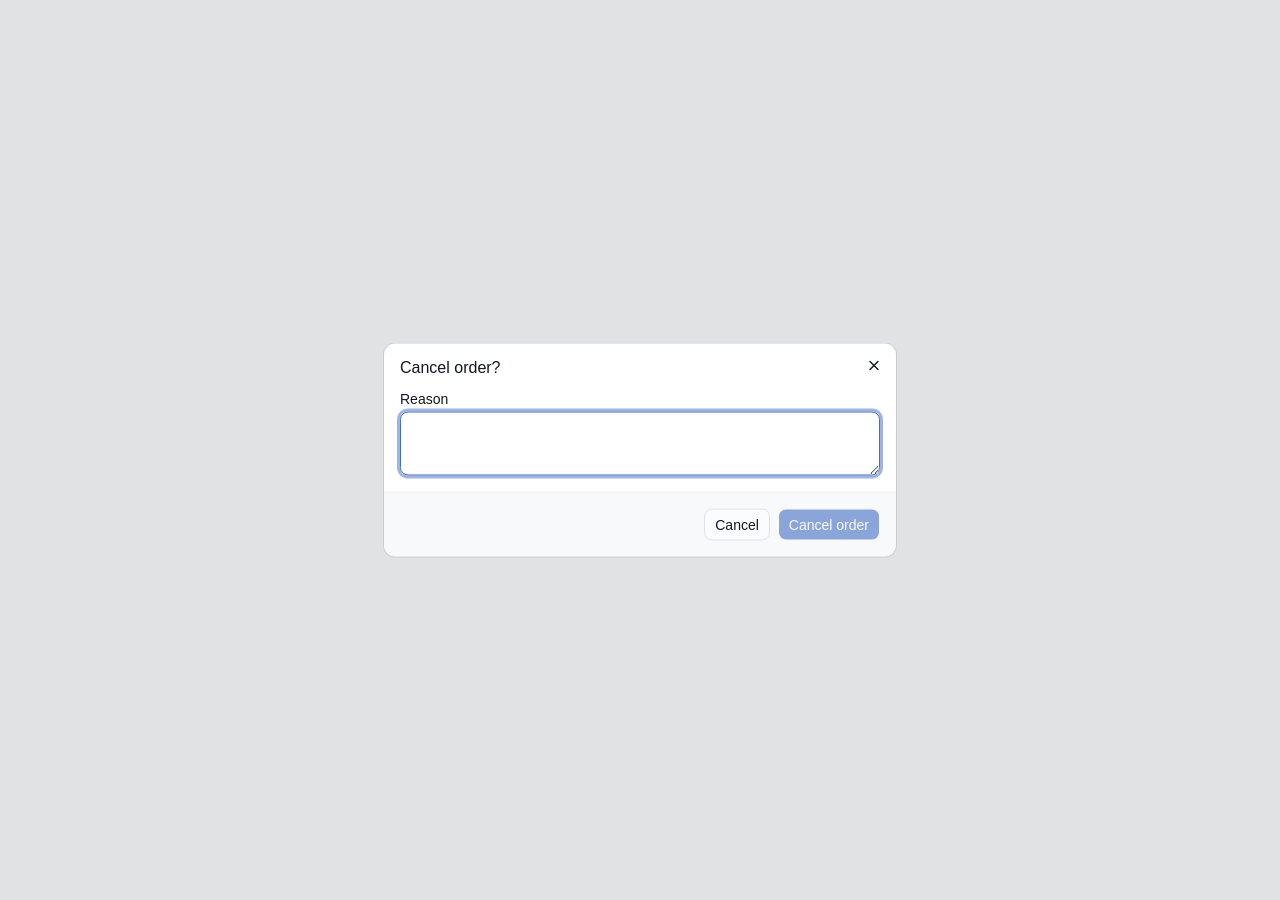
Test case: ConfirmDialog › requires a reason and shows the server problem without closing
The width and height of the screenshot is (1280, 900).
Expected: the button "Cancel order" is disabled, [778, 508, 880, 540]
In the text box labelled "Reason": (640, 444) [400, 412, 880, 476], type "Customer withdrew"
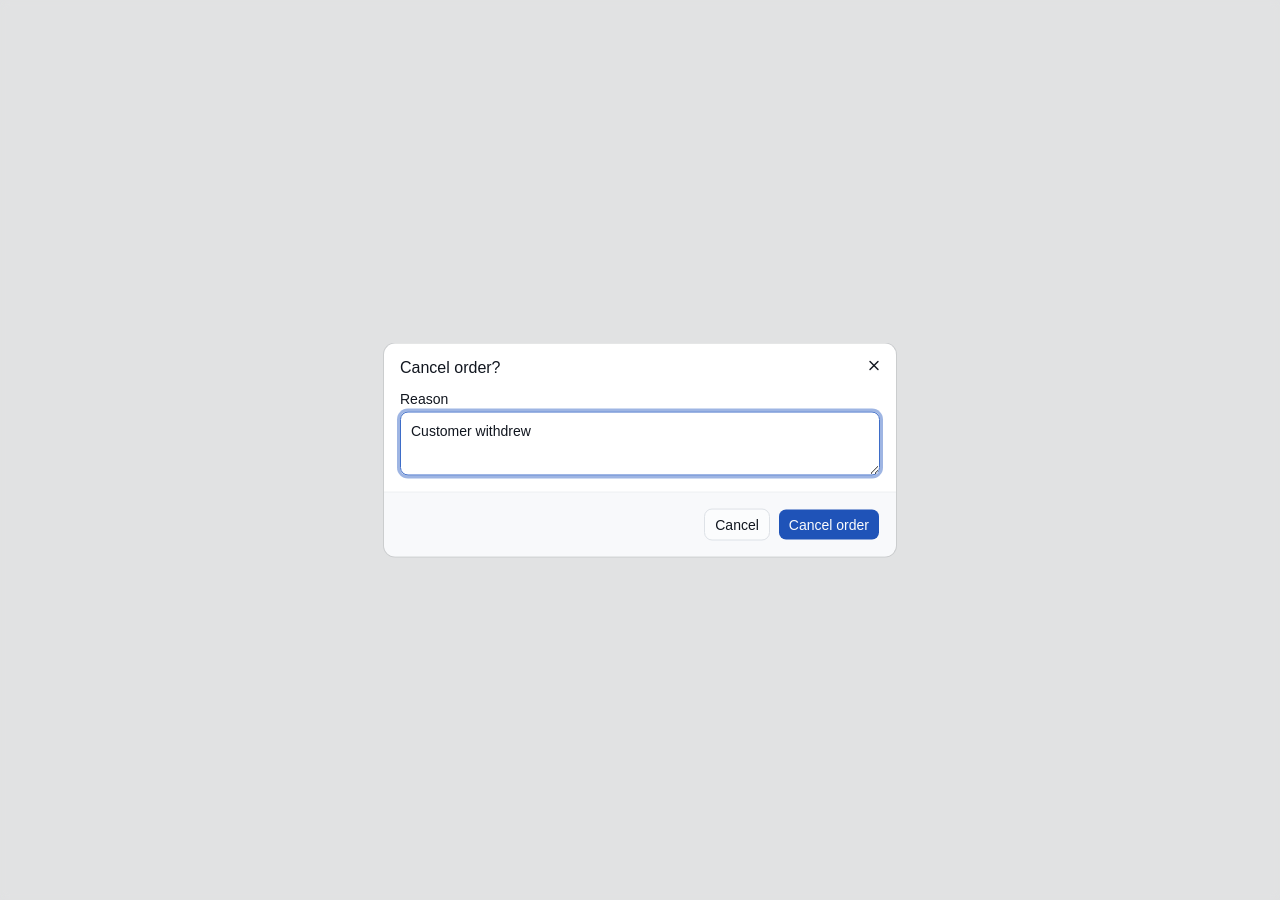
Click the button "Cancel order": (829, 524) [778, 508, 880, 540]
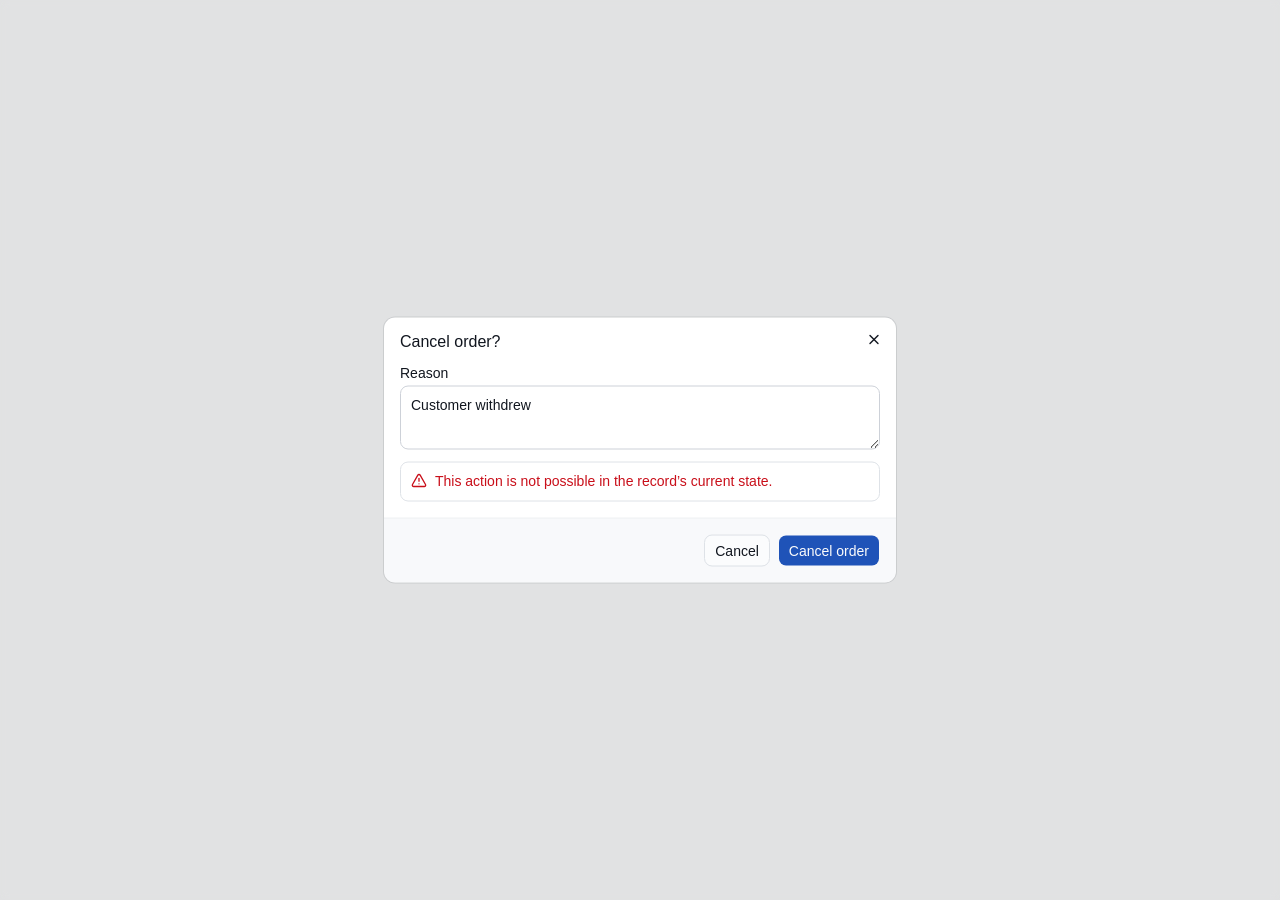
Expected: the message shows "not possible in the record’s current state", [435, 472, 772, 488]
